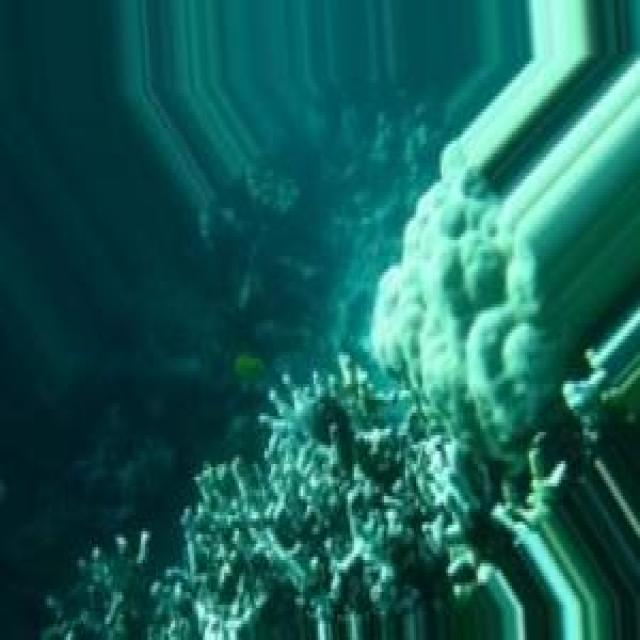Bleached: (374, 171, 524, 404)
